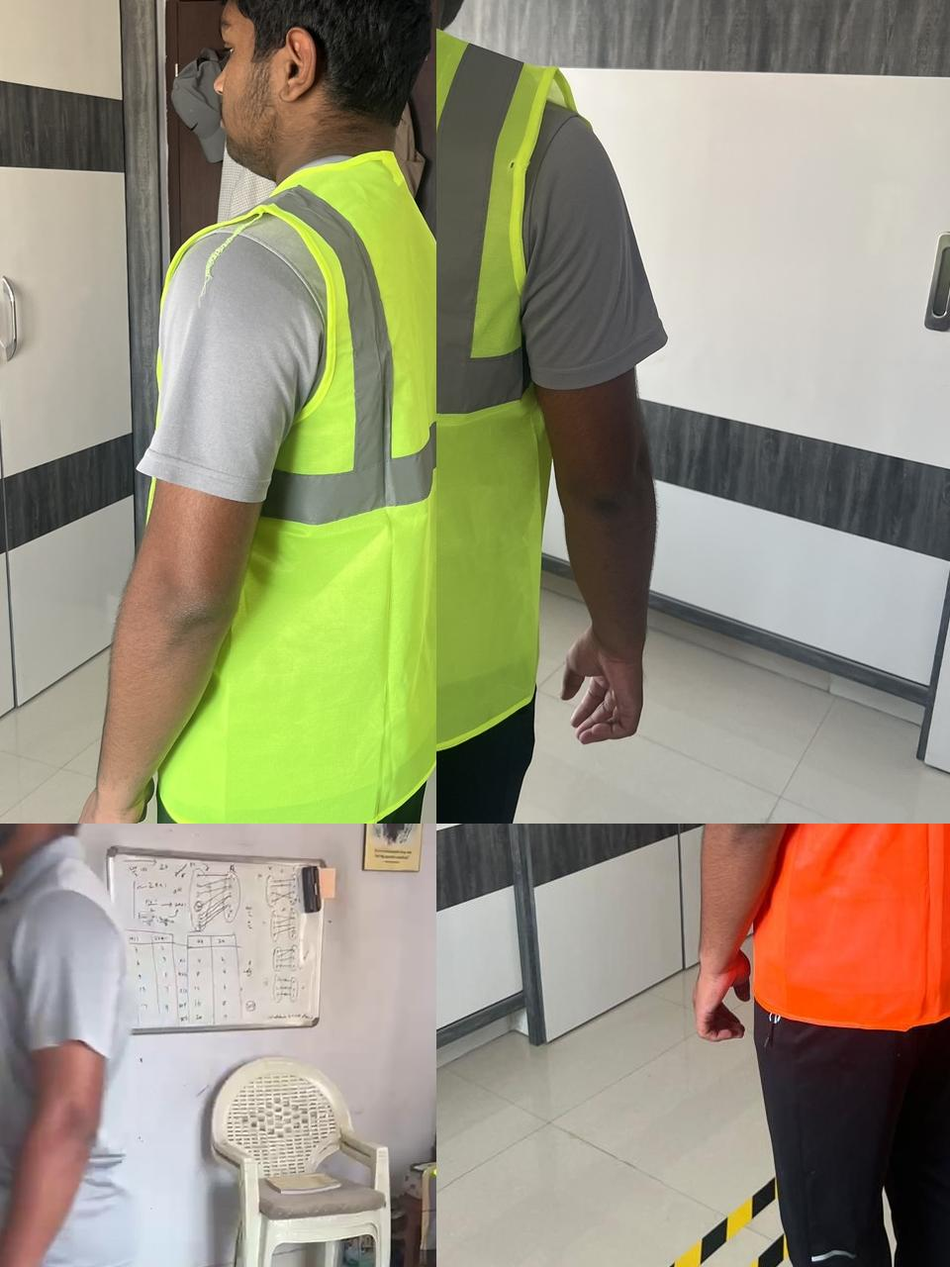BorderLine: (499, 1175, 786, 1267)
No_Helmet: (209, 0, 432, 182), (0, 824, 84, 852)
No_Vest: (0, 836, 141, 1267)
Person: (77, 0, 436, 824), (436, 0, 668, 824), (692, 824, 950, 1267), (0, 824, 176, 1267)
Vest: (144, 150, 436, 824), (436, 0, 581, 757), (740, 824, 950, 1032)
